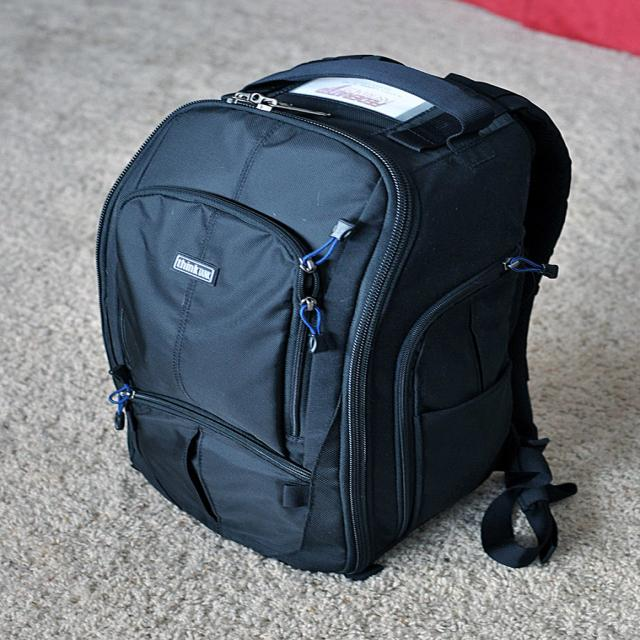backpack: (95, 51, 578, 584)
